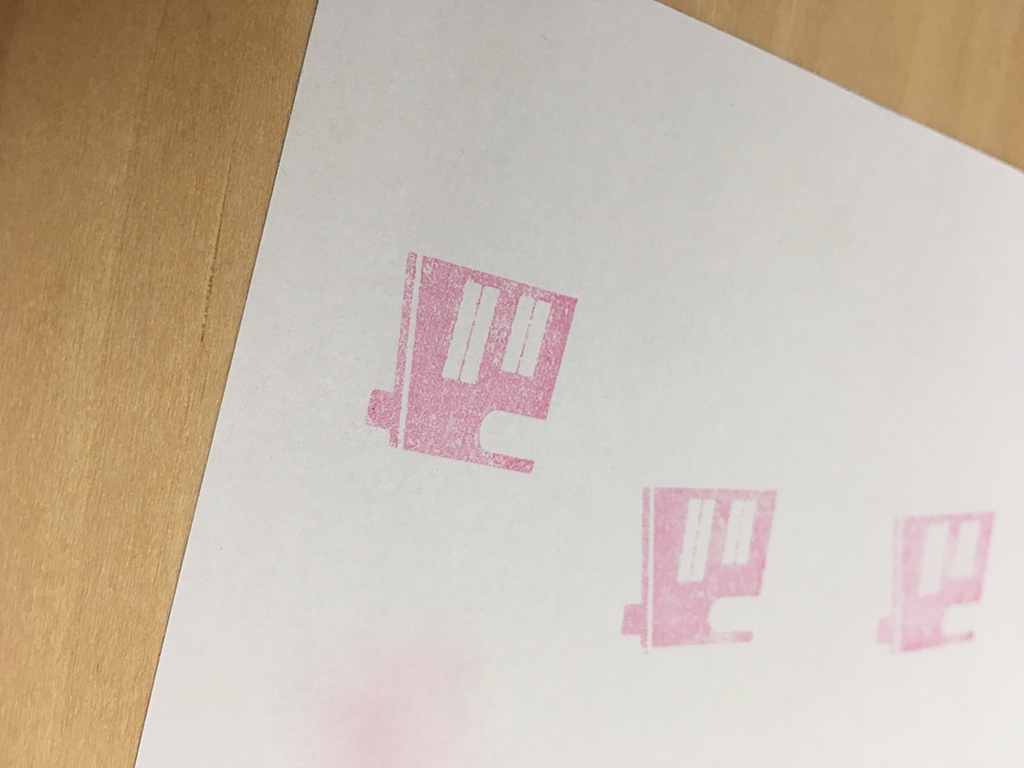house: (356, 239, 586, 490), (614, 474, 775, 655), (871, 505, 997, 658)
